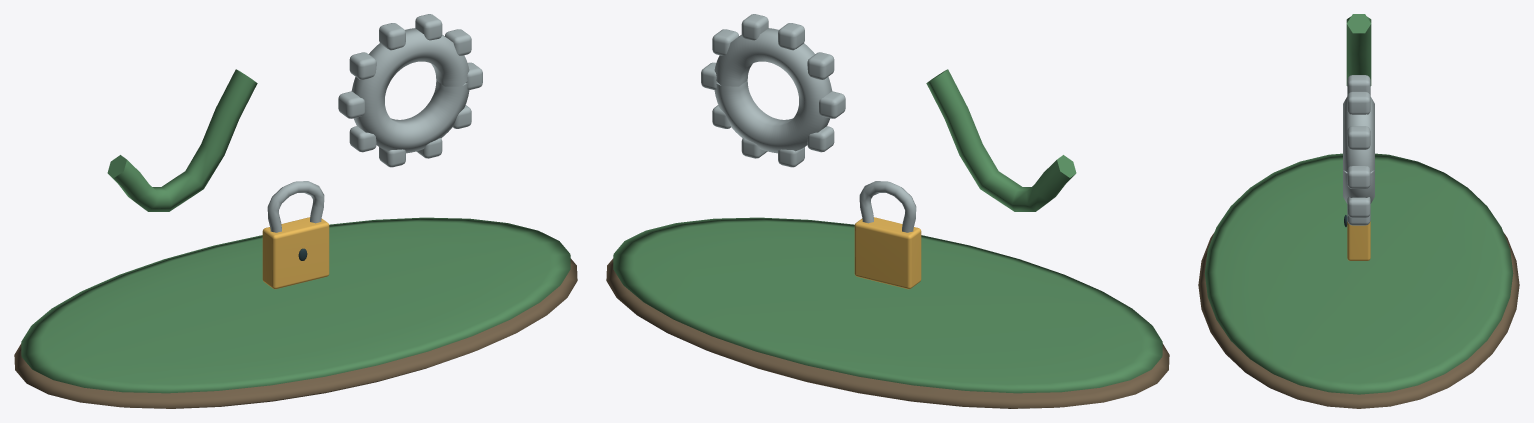
File: complete-first-possible-unlocked.glb
3 renders of one model, left to right at view 1: azimuth 30°, elevation 25°; view 2: azimuth 150°, elevation 25°; view 3: azimuth 270°, elevation 25°, orthographic. The views are drawn at different scales.
Visible parts, largest first — view 1: complete-first-possible-unlocked_surface_01, complete-first-possible-unlocked_surface_02, complete-first-possible-unlocked_surface_00, complete-first-possible-unlocked_surface_03; view 2: complete-first-possible-unlocked_surface_01, complete-first-possible-unlocked_surface_02, complete-first-possible-unlocked_surface_00, complete-first-possible-unlocked_surface_03; view 3: complete-first-possible-unlocked_surface_01, complete-first-possible-unlocked_surface_00, complete-first-possible-unlocked_surface_02, complete-first-possible-unlocked_surface_03.
Boxes of the visible parts, box(x1,y1,x2,y2) form: complete-first-possible-unlocked_surface_01: box(21, 69, 570, 393); complete-first-possible-unlocked_surface_02: box(267, 14, 482, 232); complete-first-possible-unlocked_surface_00: box(14, 258, 577, 408); complete-first-possible-unlocked_surface_03: box(262, 217, 329, 289); complete-first-possible-unlocked_surface_01: box(613, 69, 1162, 393); complete-first-possible-unlocked_surface_02: box(701, 14, 916, 232); complete-first-possible-unlocked_surface_00: box(606, 258, 1169, 408); complete-first-possible-unlocked_surface_03: box(854, 217, 921, 289); complete-first-possible-unlocked_surface_01: box(1204, 14, 1513, 394); complete-first-possible-unlocked_surface_00: box(1198, 232, 1519, 408); complete-first-possible-unlocked_surface_02: box(1343, 75, 1374, 225); complete-first-possible-unlocked_surface_03: box(1347, 221, 1370, 260).
Bounding box in the file's own units: 4.56 × 2.29 × 2.5.
